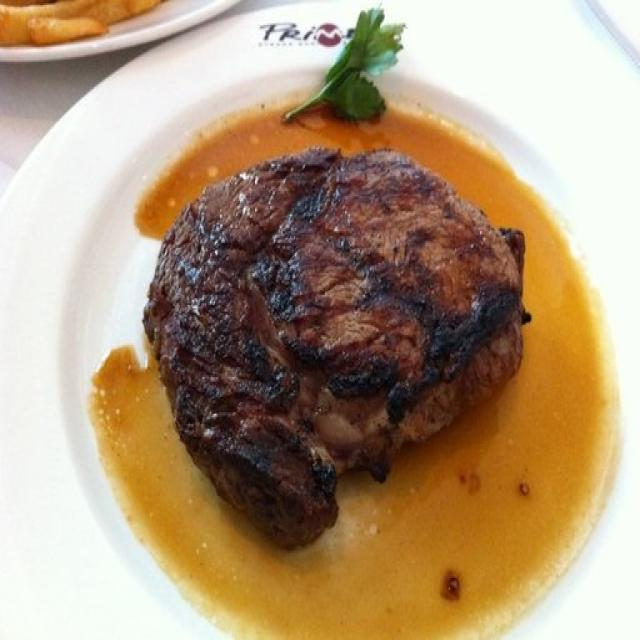Steak: (128, 153, 578, 535)
